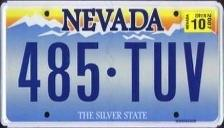4: (16, 40, 44, 105)
5: (75, 40, 101, 104)
8: (45, 40, 72, 104)
T: (123, 40, 149, 104)
U: (152, 40, 178, 104)
V: (182, 40, 207, 105)
